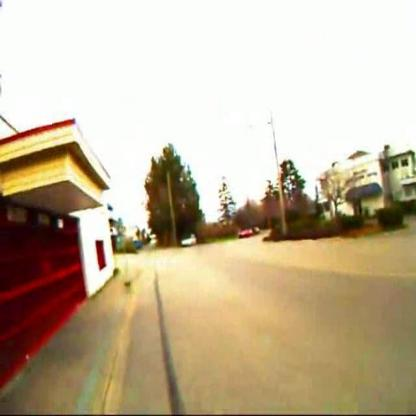other: (102, 156, 144, 238)
